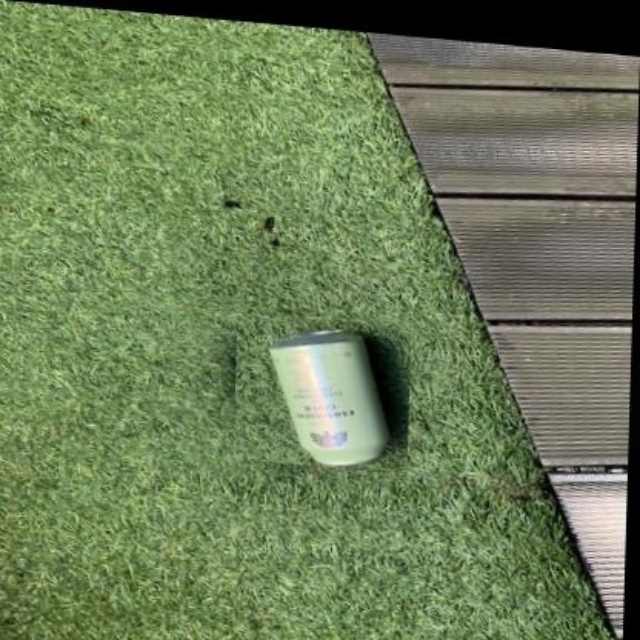trash: (271, 331, 386, 465)
